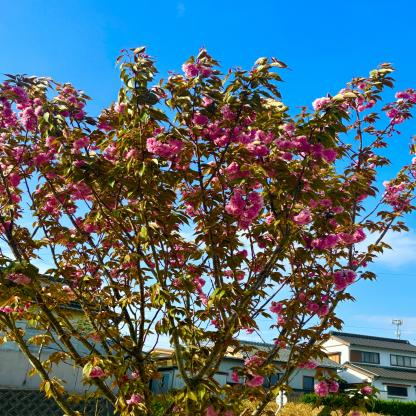YaeSakura: (1, 45, 414, 416)
